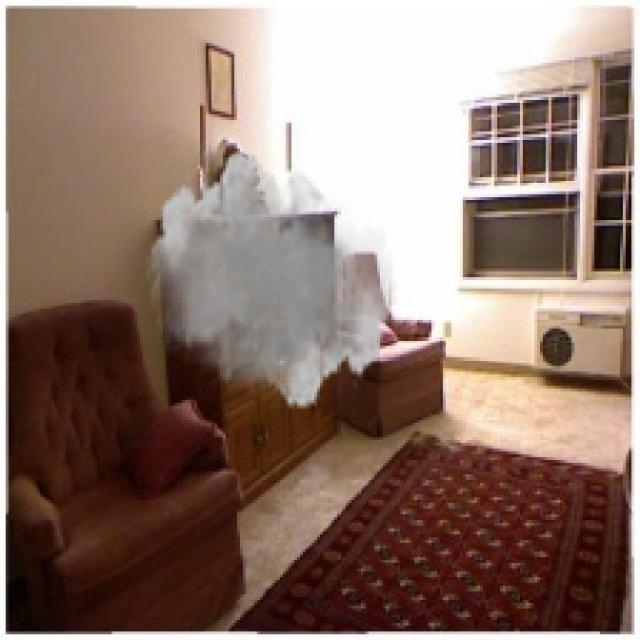Smoke: (146, 148, 397, 412)
